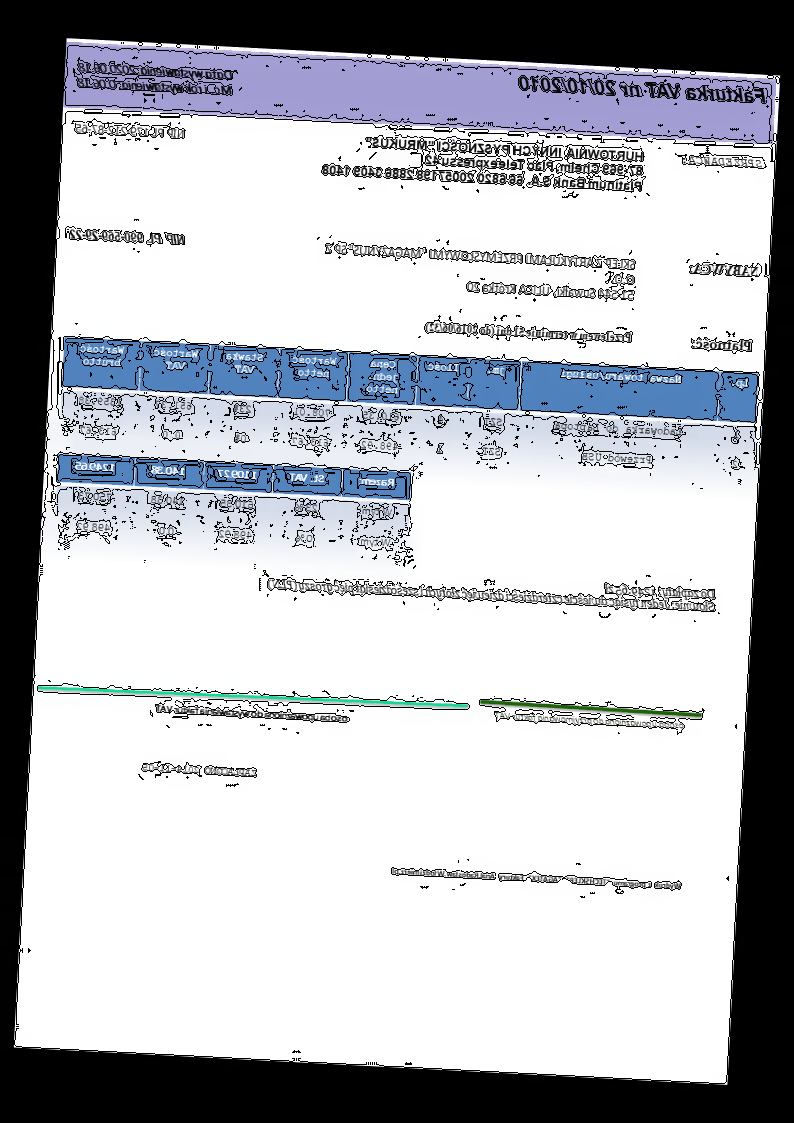Table: (58, 334, 761, 487), (53, 451, 414, 563)
TextBox: (265, 562, 719, 617), (319, 130, 647, 196), (323, 241, 636, 303), (516, 73, 770, 107), (388, 863, 684, 892), (71, 58, 237, 97), (424, 319, 634, 345), (492, 708, 687, 733), (154, 702, 352, 725), (69, 225, 187, 248), (75, 119, 189, 142), (141, 760, 259, 779), (680, 151, 767, 170), (688, 260, 761, 279), (690, 334, 753, 353)
